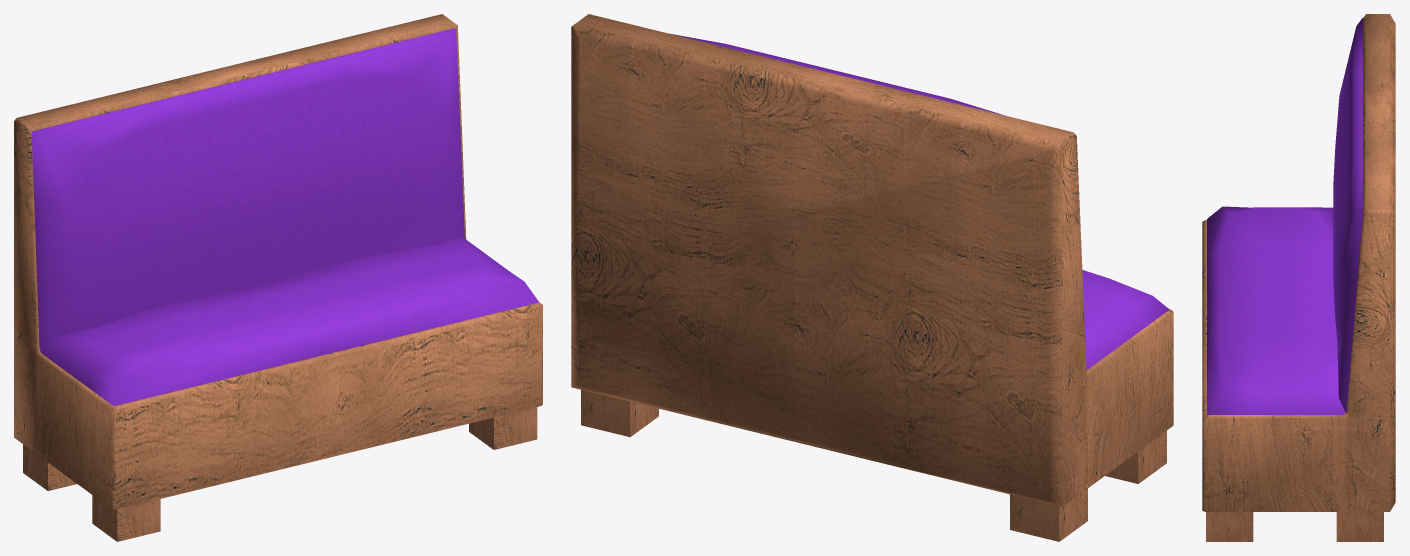
The model's file is Booth Purple.fbx.
The picture shows the model from 3 angles, left to right: view 1: azimuth 30°, elevation 25°; view 2: azimuth 150°, elevation 25°; view 3: azimuth 270°, elevation 25°; orthographic projection. The views are drawn at different scales.
Parts seen in each view (by area): view 1: Booth Purple; view 2: Booth Purple; view 3: Booth Purple.
Boxes of the visible parts, x1=… form: Booth Purple: x1=14, y1=14, x2=542, y2=541; Booth Purple: x1=571, y1=14, x2=1173, y2=541; Booth Purple: x1=1202, y1=14, x2=1395, y2=541.
Bounding box in the file's own units: 91.28 × 71.5 × 37.55.
